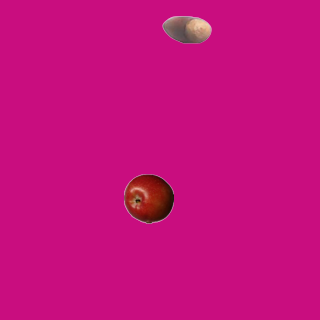Apple Braeburn: (123, 173, 173, 223)
Hazelnut: (161, 4, 211, 54)
